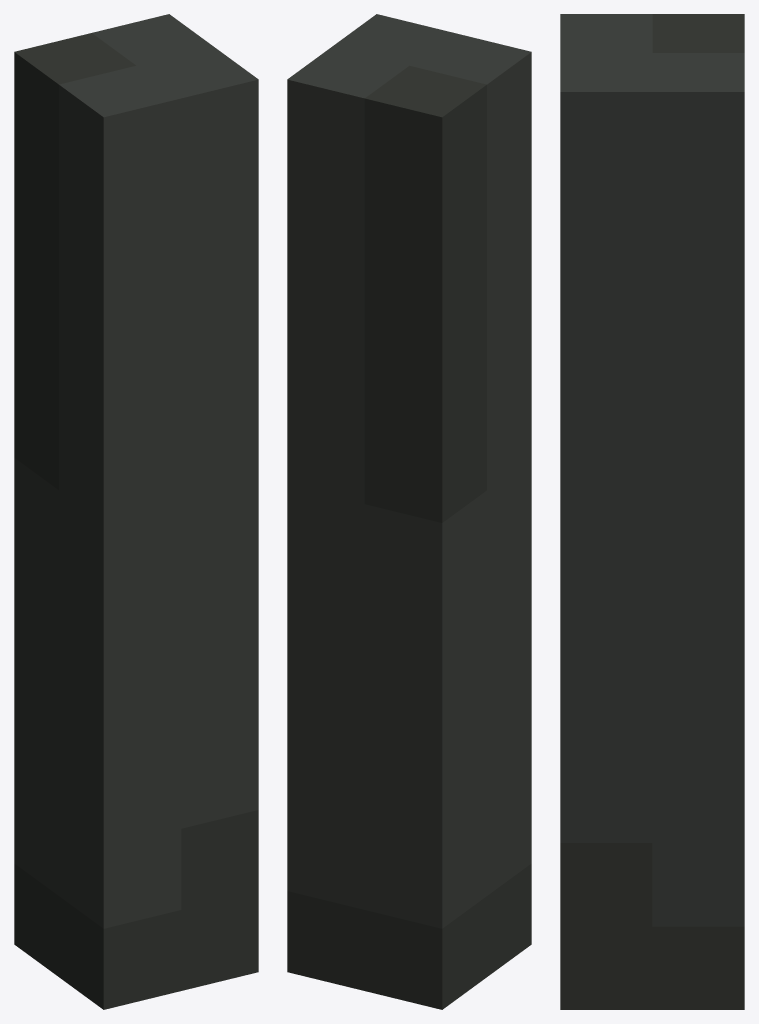
Rendered from Lowerarm_05_Mesh.fbx.
The picture shows the model from 3 angles, left to right: view 1: azimuth 30°, elevation 25°; view 2: azimuth 150°, elevation 25°; view 3: azimuth 270°, elevation 25°; orthographic projection. The views are drawn at different scales.
Visible parts, largest first — view 1: Lowerarm_05_Mesh; view 2: Lowerarm_05_Mesh; view 3: Lowerarm_05_Mesh.
Part boxes in pixels (x1,y1,x2,y2): Lowerarm_05_Mesh: (14,14,258,1009); Lowerarm_05_Mesh: (287,14,531,1009); Lowerarm_05_Mesh: (560,14,744,1009).
Bounding box in the file's own units: 0.2 × 1.1 × 0.2.
Materials: 1 (1 with a texture image).
